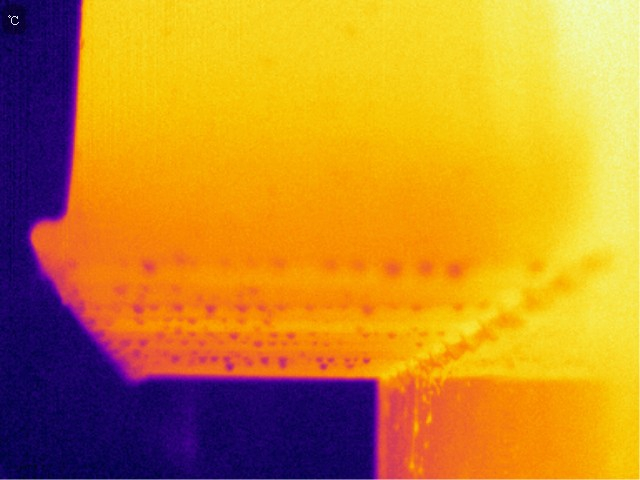Water: (258, 353, 291, 370), (380, 262, 407, 278), (157, 301, 190, 313), (312, 352, 336, 365), (221, 354, 236, 373), (139, 259, 159, 273), (343, 353, 357, 373), (127, 303, 148, 316), (202, 301, 221, 315), (249, 338, 269, 349), (193, 354, 208, 367), (225, 331, 244, 341), (358, 356, 374, 367), (361, 302, 375, 313), (138, 340, 154, 349), (286, 330, 300, 340), (170, 353, 181, 365), (210, 352, 220, 364), (317, 365, 330, 373)
